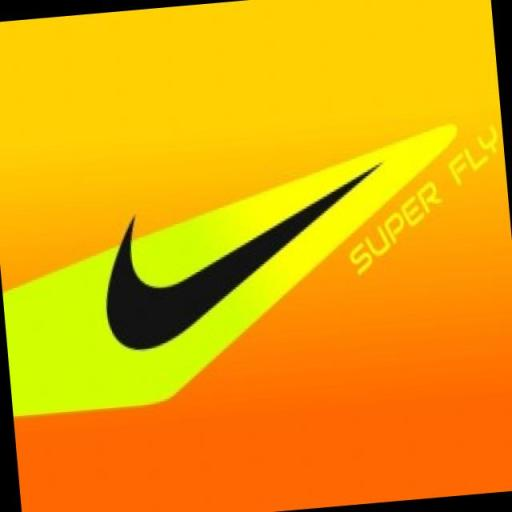Nike: (87, 166, 404, 358)
